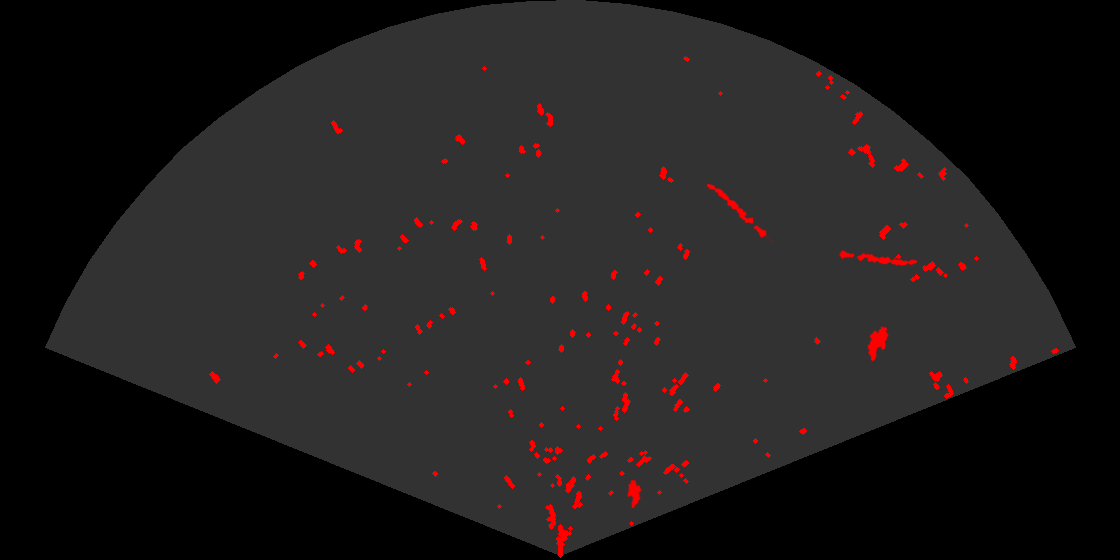AUV: (866, 324, 890, 363), (625, 478, 643, 510)
chain: (705, 182, 776, 244), (836, 249, 919, 268)
